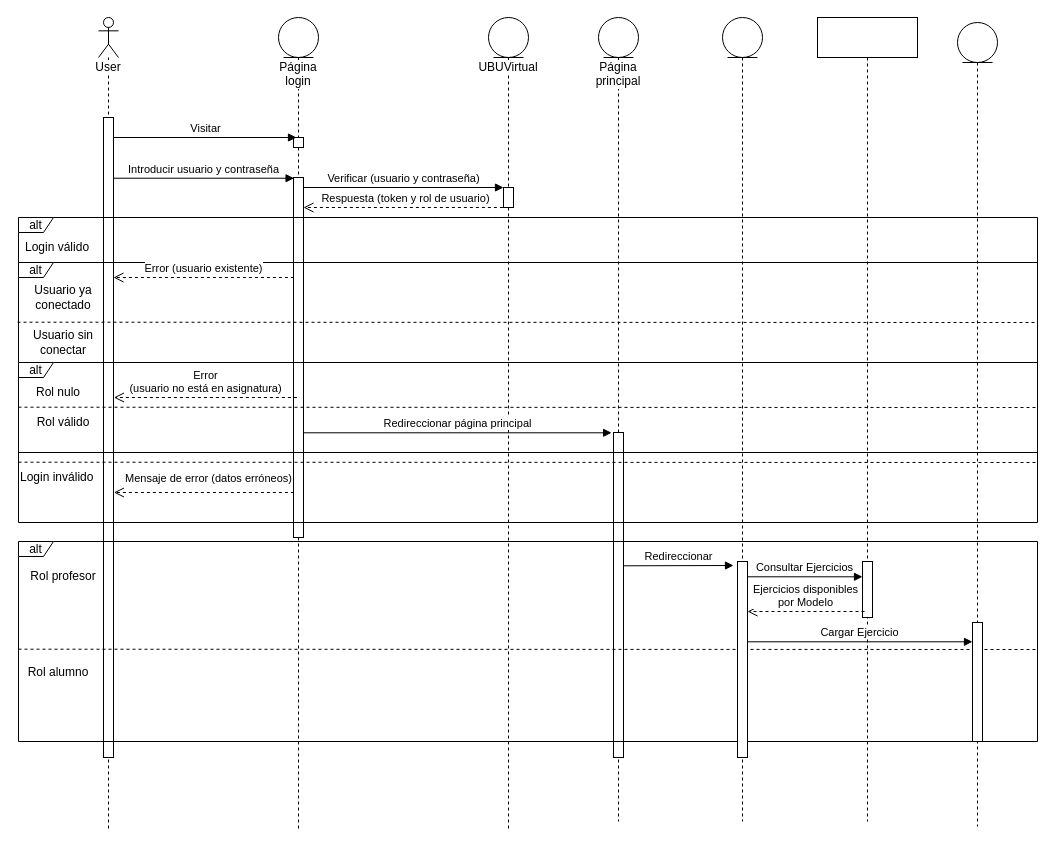
This 1056x849 diagram has some shape labels left out. Each missing label, with the box of its shape:
Ejercicios: (816, 16, 918, 822)
Estantería de ejercicios: (722, 16, 762, 822)
Visor de Modelos: (956, 22, 998, 826)
